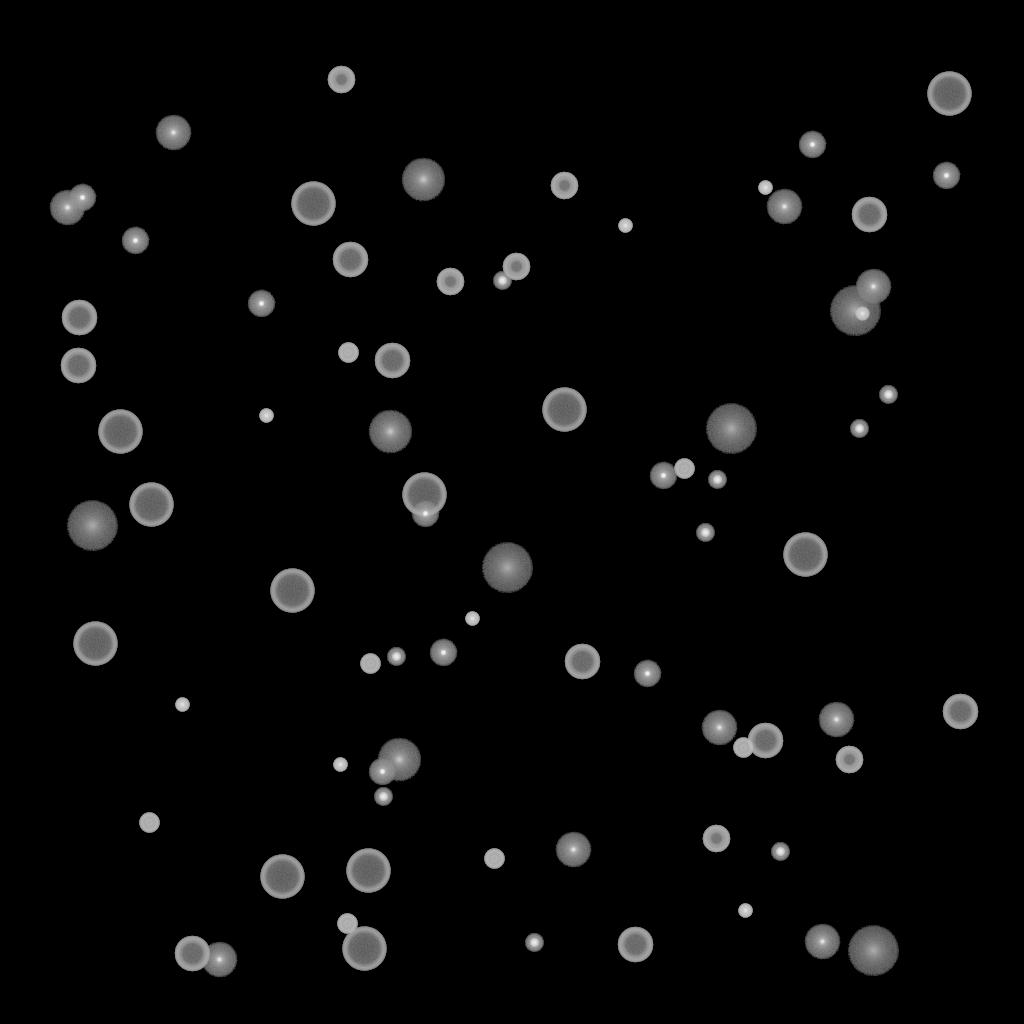depth:-10: (798, 131, 826, 159), (932, 162, 960, 190), (68, 184, 96, 212), (121, 227, 149, 255), (429, 639, 457, 667), (247, 290, 275, 318), (633, 660, 661, 688), (411, 500, 439, 528), (649, 462, 677, 490), (368, 758, 396, 786)
depth:-20: (879, 386, 897, 404), (708, 471, 726, 489), (771, 843, 789, 861), (493, 272, 511, 290), (374, 788, 392, 806), (850, 420, 868, 438), (696, 524, 714, 542), (525, 934, 543, 952), (387, 648, 405, 666)
depth:-30: (738, 904, 752, 918), (175, 698, 189, 712), (333, 758, 347, 772), (465, 612, 479, 626), (855, 307, 869, 321), (618, 219, 632, 233), (259, 409, 273, 423), (758, 181, 772, 195)
depth:-40: (338, 343, 358, 363), (139, 813, 159, 833), (674, 459, 694, 479), (733, 738, 753, 758), (337, 914, 357, 934), (360, 654, 380, 674), (484, 849, 504, 869)
depth:-50: (502, 253, 530, 281), (550, 172, 578, 200), (436, 268, 464, 296), (327, 66, 355, 94), (835, 746, 863, 774), (702, 825, 730, 853)
depth:-60: (564, 644, 600, 680), (374, 343, 410, 379), (617, 927, 653, 963), (60, 348, 96, 384), (332, 242, 368, 278), (942, 694, 978, 730), (851, 197, 887, 233), (747, 723, 783, 759), (174, 936, 210, 972), (61, 300, 97, 336)
depth:-70: (73, 622, 117, 666), (98, 410, 142, 454), (542, 388, 586, 432), (342, 927, 386, 971), (927, 72, 971, 116), (783, 533, 827, 577), (402, 473, 446, 517), (270, 569, 314, 613), (129, 483, 173, 527), (346, 849, 390, 893), (260, 855, 304, 899), (291, 182, 335, 226)
depth:0: (818, 702, 854, 738), (201, 942, 237, 978), (49, 190, 85, 226), (155, 115, 191, 151), (766, 189, 802, 225), (701, 710, 737, 746), (855, 269, 891, 305), (555, 832, 591, 868), (804, 924, 840, 960)
depth:10: (368, 410, 412, 454), (401, 158, 445, 202), (377, 738, 421, 782)
depth:20: (847, 926, 899, 976), (705, 404, 757, 454), (481, 543, 533, 593), (829, 286, 881, 336), (66, 501, 118, 551)
